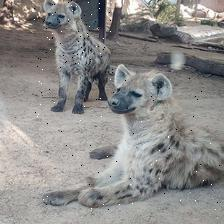hyena: (44, 64, 224, 210), (34, 0, 112, 121)
